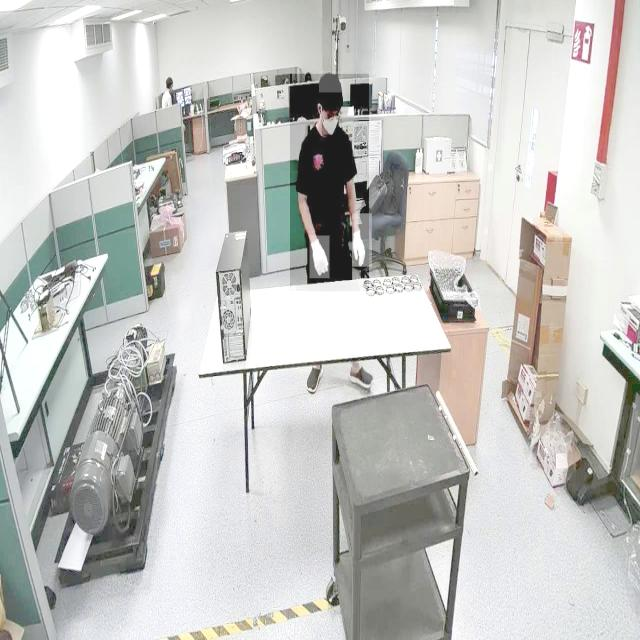face_mask: (322, 94, 342, 142)
hand_glove: (352, 214, 372, 268), (309, 236, 329, 279)
head_nohelmet: (319, 71, 343, 93), (166, 76, 174, 84)
person: (289, 74, 369, 292)
shoes: (348, 361, 374, 394), (304, 360, 326, 394)
